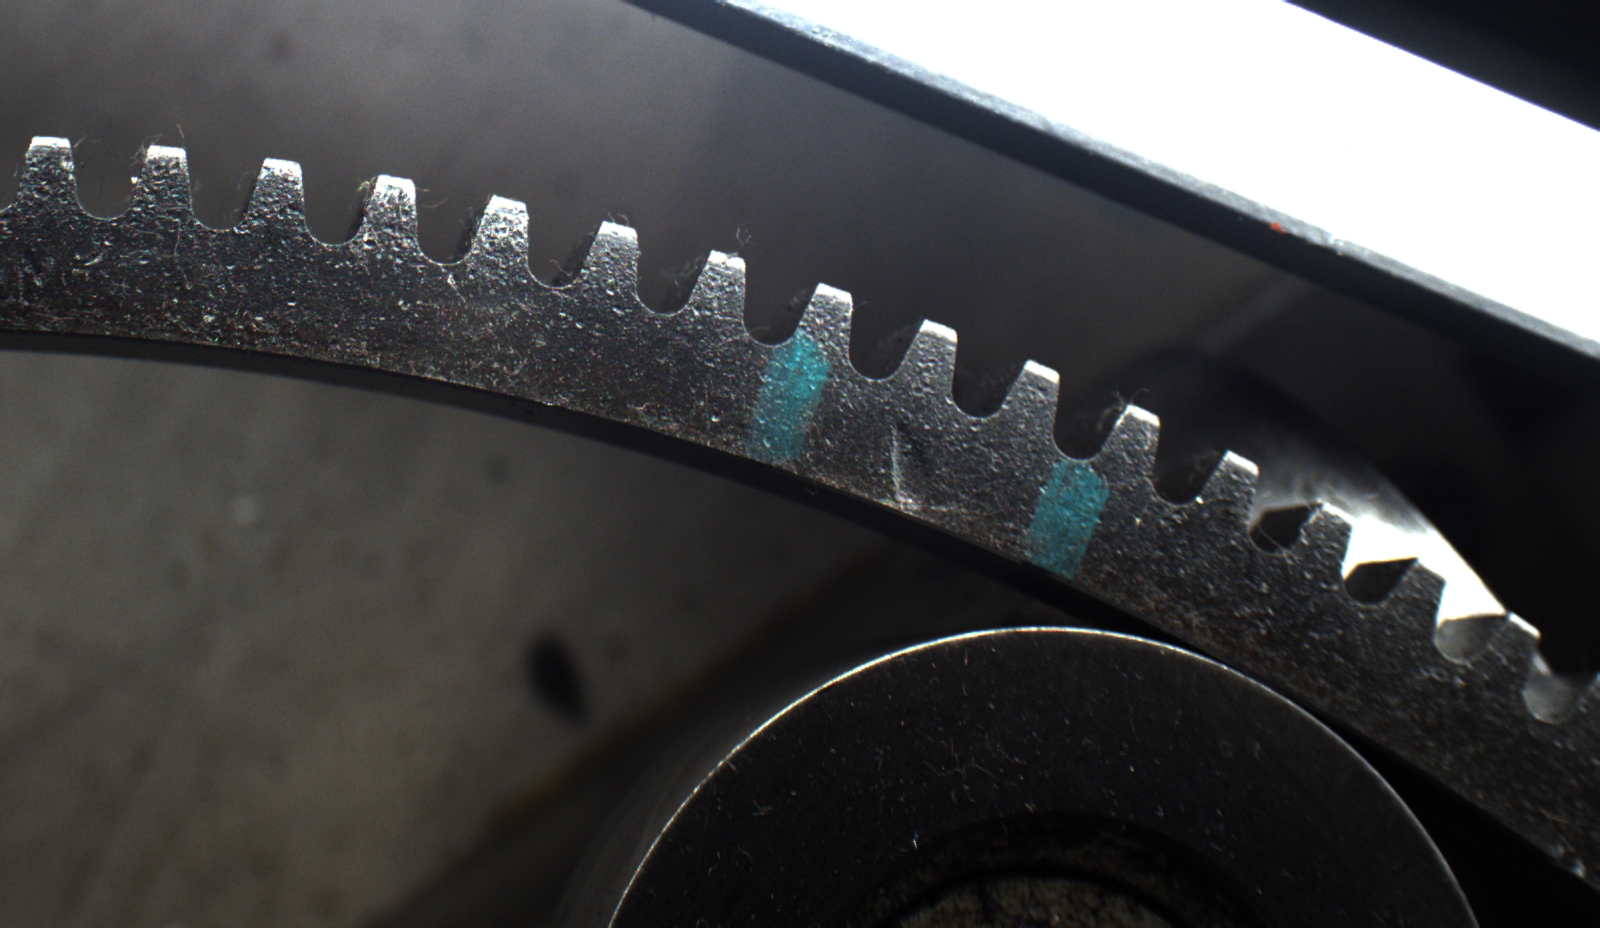test: (684, 294, 976, 571)
